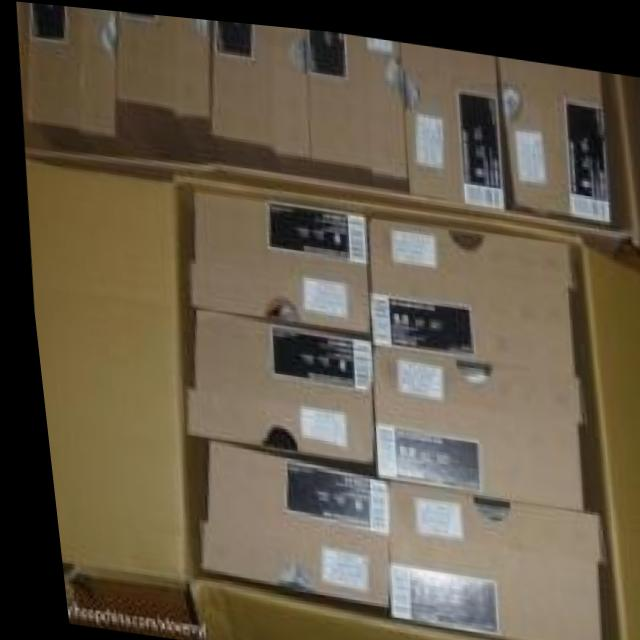box: (378, 474, 594, 640), (367, 339, 576, 501), (364, 213, 570, 363), (188, 438, 376, 602), (178, 306, 364, 458), (184, 186, 364, 328), (497, 47, 606, 213), (401, 35, 502, 201), (306, 23, 405, 171), (209, 16, 307, 154), (23, 2, 116, 136), (116, 9, 211, 114)
